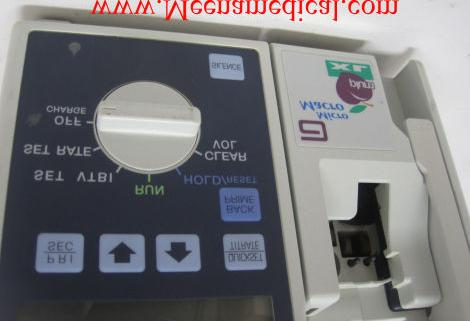plumxl1: (6, 22, 465, 317)
